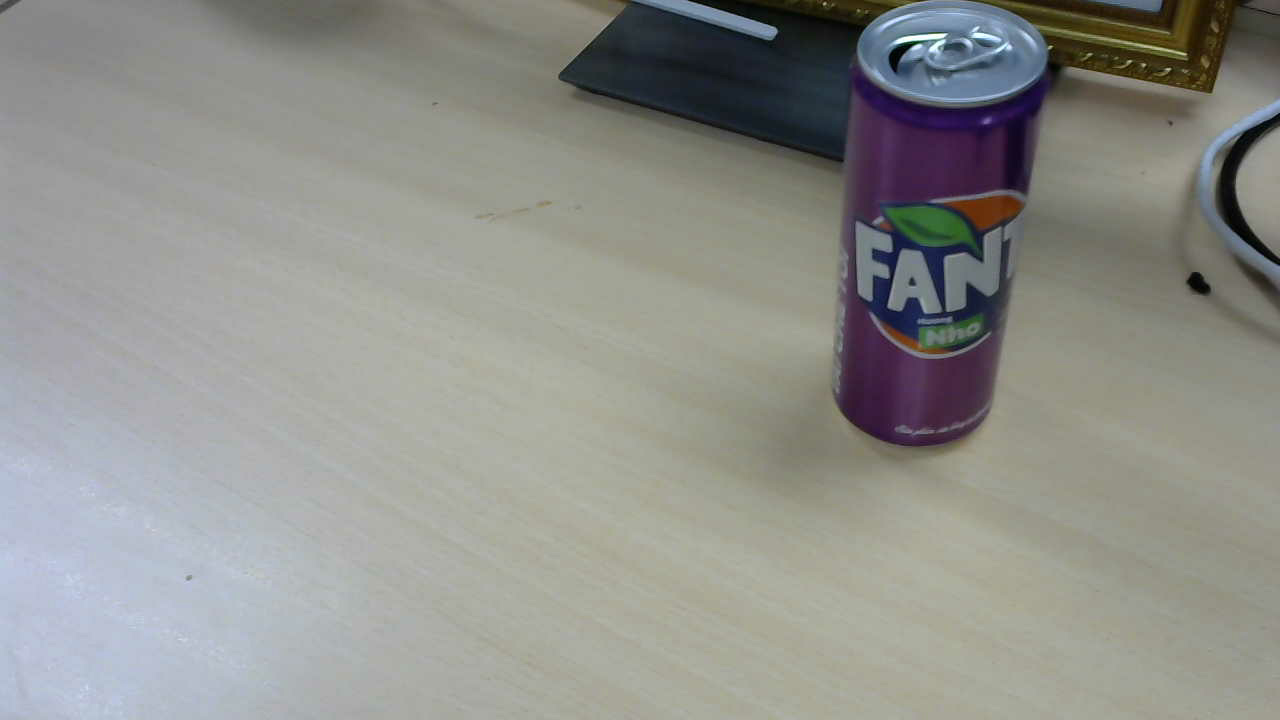Fanta: (829, 5, 1056, 453)
